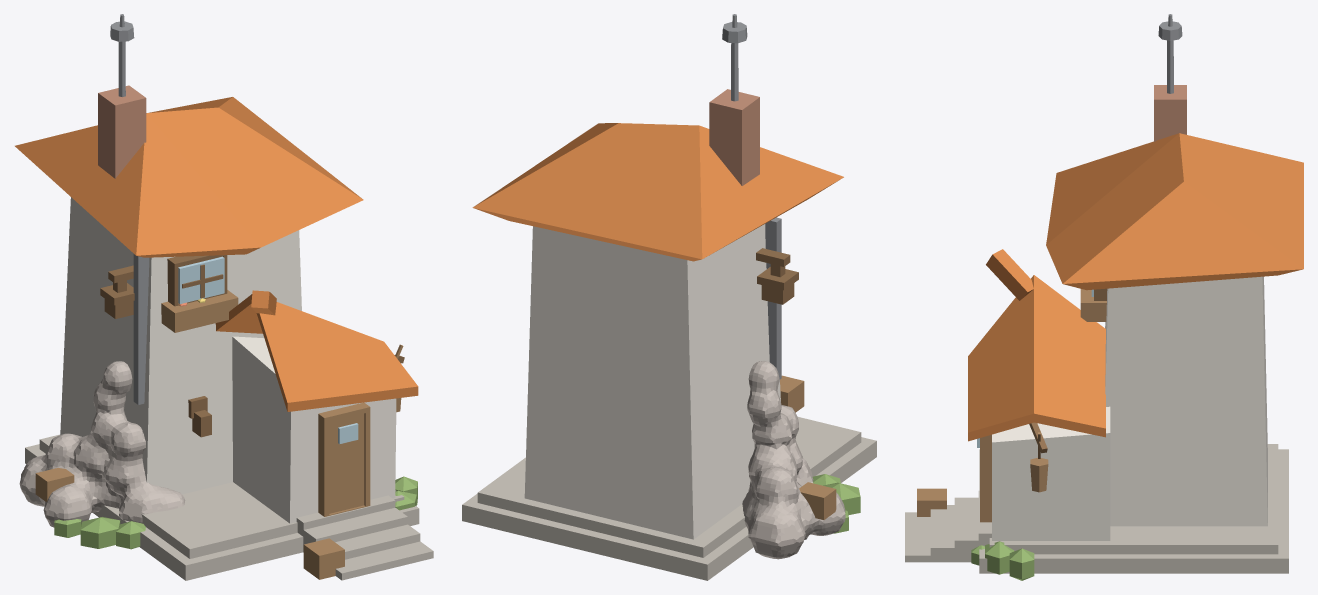
File: storybook_cottage.glb
3 views of the same model, side by side, from view 1: azimuth 30°, elevation 25°; view 2: azimuth 150°, elevation 25°; view 3: azimuth 270°, elevation 25° (orthographic). The views are drawn at different scales.
Visible parts, largest first — view 1: Cottage_Roof, Cottage_Body, Cottage_Porch, Cottage_PorchRoof, Cottage_Rocks, Cottage_Foundation, Cottage_Steps, Cottage_Door, Cottage_Foliage, Cottage_Downpipe, Cottage_FlowerBox, Cottage_WindowGlass (+5 smaller); view 2: Cottage_Body, Cottage_Roof, Cottage_Foundation, Cottage_Rocks, Cottage_Lantern, Cottage_Downpipe, Cottage_Foliage, Cottage_RockBox, Cottage_Crate; view 3: Cottage_Body, Cottage_Roof, Cottage_PorchRoof, Cottage_Foundation, Cottage_Porch, Cottage_Steps, Cottage_Foliage, Cottage_Door, Cottage_Crate, Cottage_FlowerBox, Cottage_Bucket.
Part boxes in pixels (x1=…): Cottage_Roof: x1=15, y1=14, x2=363, y2=257; Cottage_Body: x1=60, y1=197, x2=301, y2=494; Cottage_Porch: x1=232, y1=336, x2=396, y2=523; Cottage_PorchRoof: x1=215, y1=290, x2=418, y2=411; Cottage_Rocks: x1=19, y1=361, x2=185, y2=527; Cottage_Foundation: x1=25, y1=434, x2=419, y2=580; Cottage_Steps: x1=296, y1=495, x2=433, y2=580; Cottage_Door: x1=318, y1=402, x2=370, y2=516; Cottage_Foliage: x1=54, y1=476, x2=417, y2=549; Cottage_Downpipe: x1=133, y1=254, x2=149, y2=404; Cottage_FlowerBox: x1=161, y1=290, x2=238, y2=332; Cottage_WindowGlass: x1=178, y1=256, x2=224, y2=303; Cottage_Body: x1=524, y1=224, x2=780, y2=539; Cottage_Roof: x1=472, y1=14, x2=843, y2=261; Cottage_Foundation: x1=462, y1=417, x2=876, y2=580; Cottage_Rocks: x1=742, y1=361, x2=845, y2=559; Cottage_Lantern: x1=756, y1=248, x2=798, y2=304; Cottage_Downpipe: x1=765, y1=217, x2=781, y2=379; Cottage_Foliage: x1=812, y1=474, x2=860, y2=533; Cottage_RockBox: x1=799, y1=482, x2=836, y2=519; Cottage_Crate: x1=780, y1=375, x2=804, y2=412; Cottage_Body: x1=1105, y1=276, x2=1267, y2=526; Cottage_Roof: x1=1046, y1=14, x2=1303, y2=290; Cottage_PorchRoof: x1=968, y1=249, x2=1105, y2=441; Cottage_Foundation: x1=979, y1=444, x2=1288, y2=573; Cottage_Porch: x1=992, y1=406, x2=1110, y2=540; Cottage_Steps: x1=905, y1=490, x2=991, y2=562; Cottage_Foliage: x1=971, y1=541, x2=1034, y2=580; Cottage_Door: x1=980, y1=434, x2=991, y2=522; Cottage_Crate: x1=917, y1=488, x2=946, y2=516; Cottage_FlowerBox: x1=1080, y1=289, x2=1106, y2=321; Cottage_Bucket: x1=1030, y1=432, x2=1048, y2=492.
Size of the model in its own units: 4.58 by 6.94 by 5.32.
